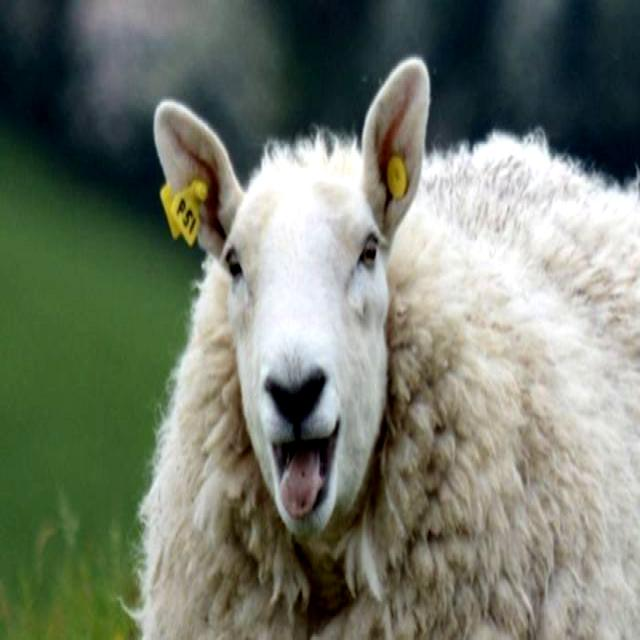sheep: (137, 60, 640, 638)
